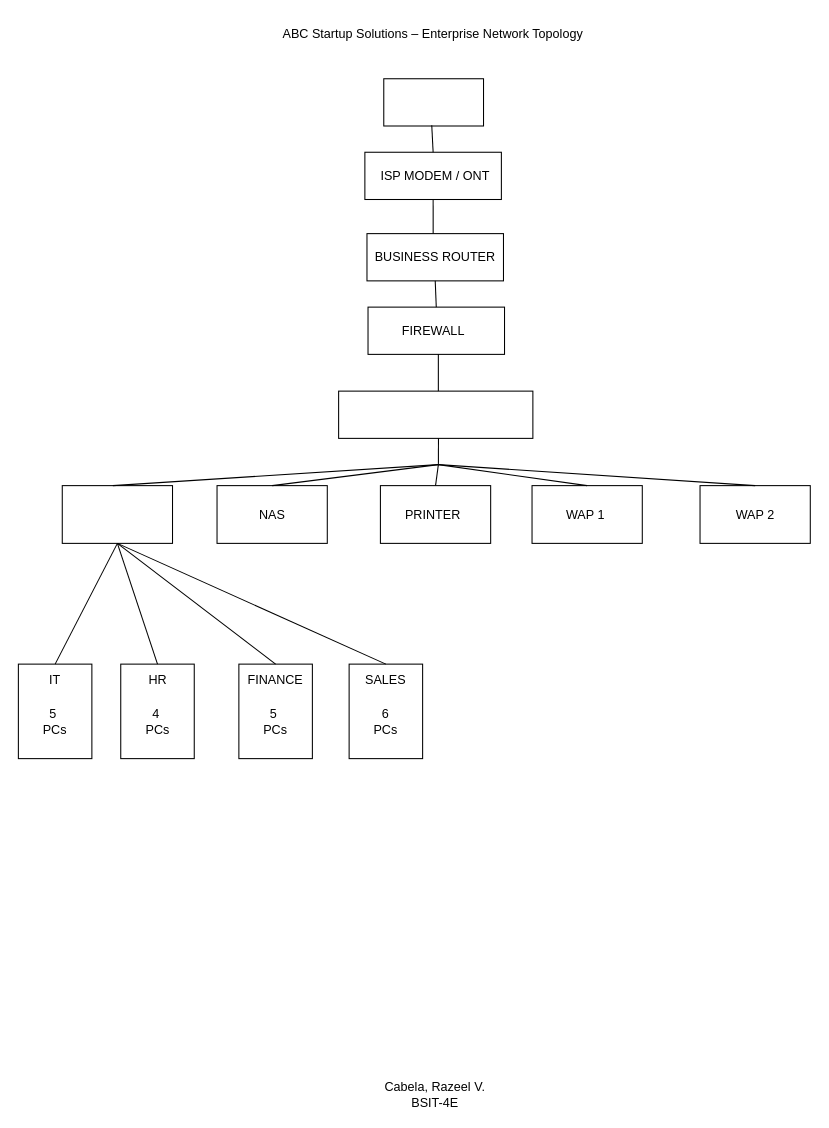
This 829x1128 diagram has some shape labels left out. Here are the shapes that lost their labels. From the top down, the box of each, then its label:
(383, 78, 484, 126): Internet
(338, 390, 533, 438): 48-PORT MANAGED SWITCH
(61, 485, 173, 543): SERVER
